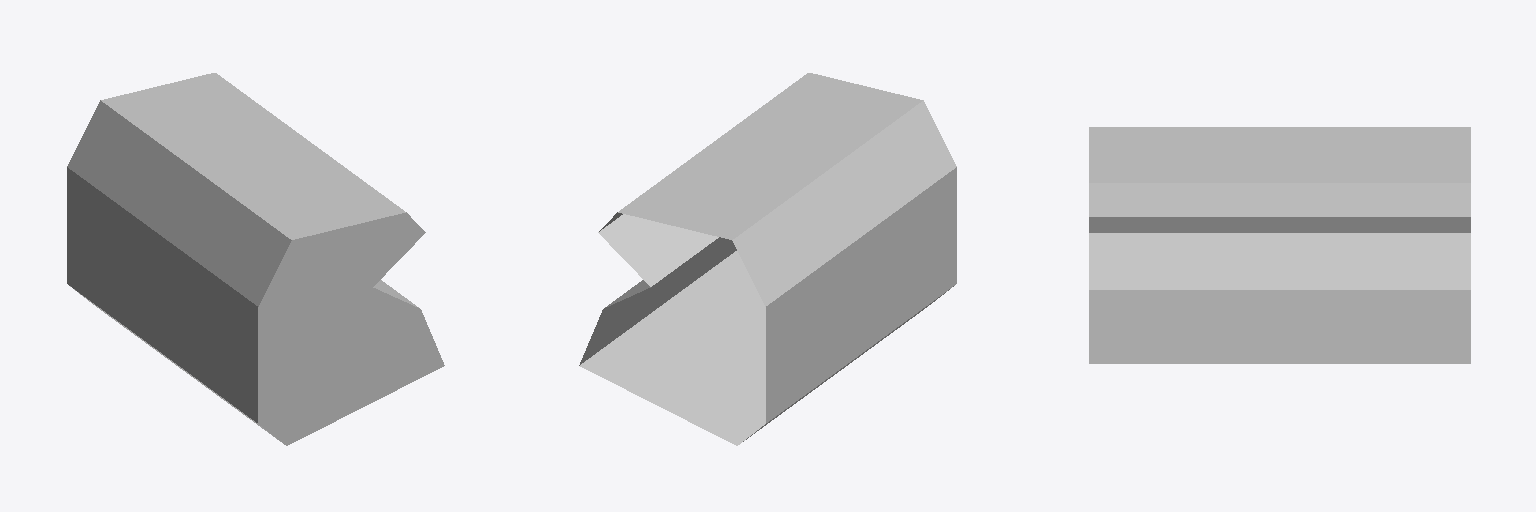
File: building-15.obj
The picture shows the model from 3 angles: view 1: azimuth 30°, elevation 25°; view 2: azimuth 150°, elevation 25°; view 3: azimuth 270°, elevation 25°; orthographic projection.
Size of the model in its own units: 11.69 by 12.25 by 20.74.